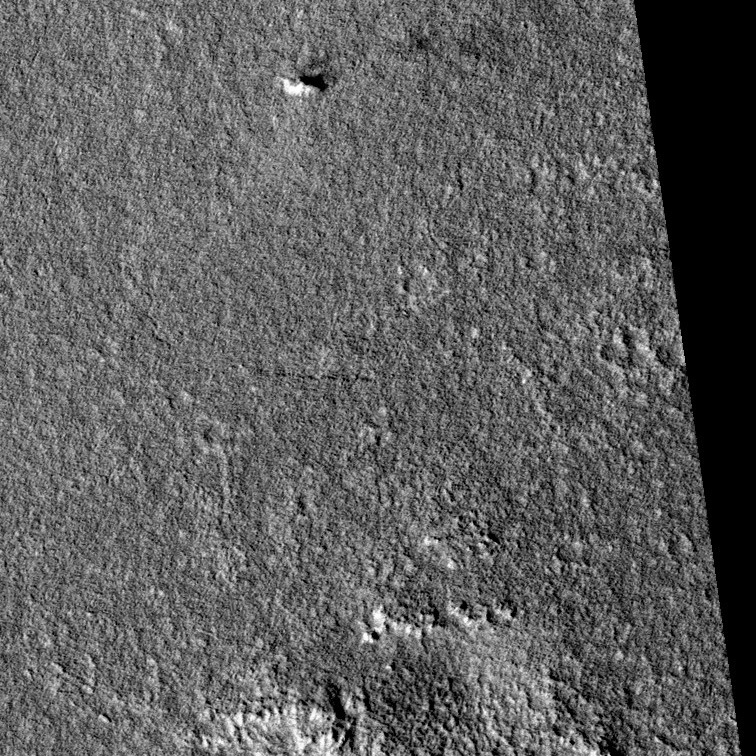dust_devil: (279, 70, 331, 97)
